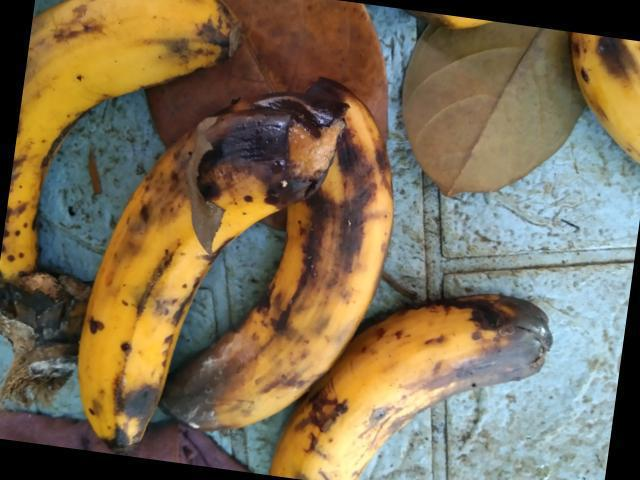overripe: (0, 3, 241, 321)
rotten: (168, 50, 415, 440), (65, 90, 328, 426), (284, 285, 560, 479)
